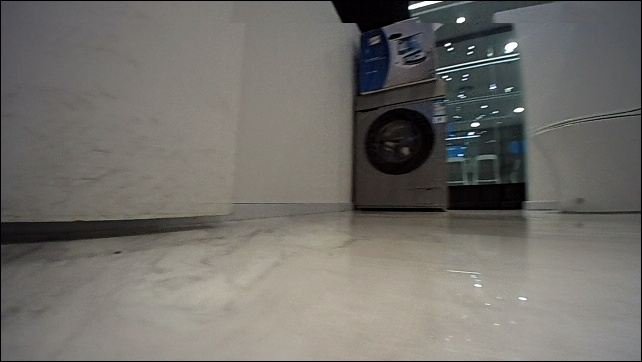plastic_toy: (347, 80, 454, 215)
toilet: (525, 106, 641, 214)
